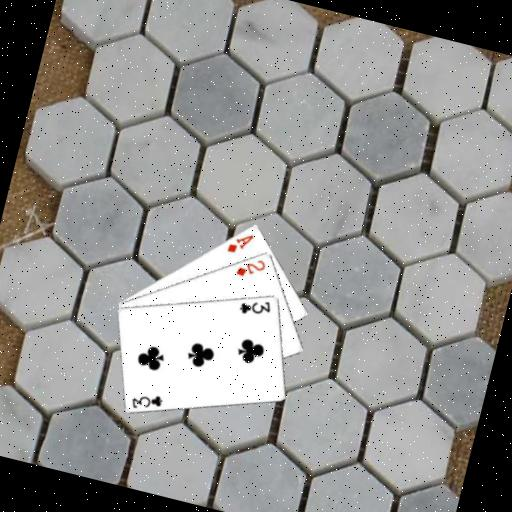2D: (232, 251, 269, 283)
3C: (126, 385, 166, 416), (236, 292, 275, 321)
AD: (224, 226, 257, 258)
